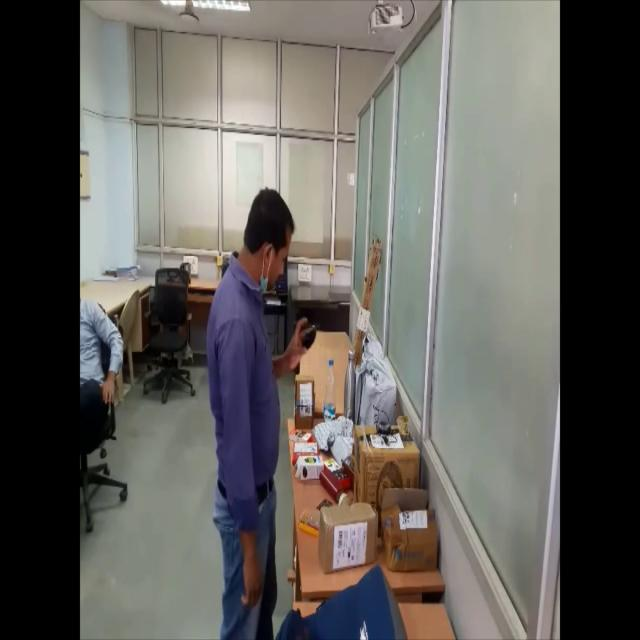normal: (200, 182, 318, 640)
